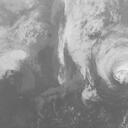cyclone: (57, 27, 127, 86)
